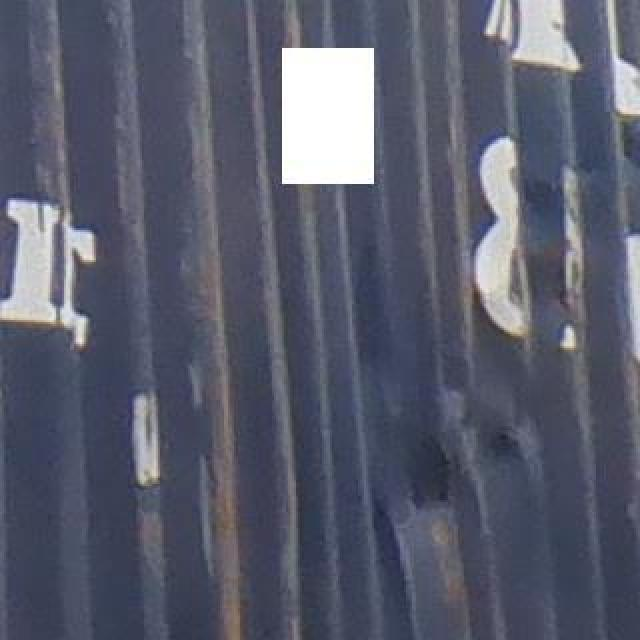dent: (327, 211, 599, 637)
